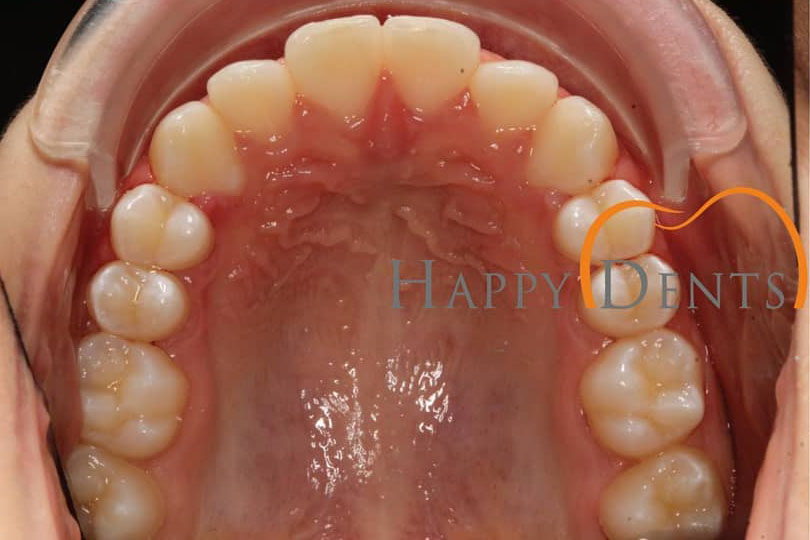UL1M_healthy: (579, 331, 699, 459)
UL2M_healthy: (597, 450, 721, 539)
ULCI_healthy: (384, 18, 478, 125)
ULC_healthy: (522, 96, 605, 188)
ULLI_healthy: (475, 59, 556, 137)
UR1BC_healthy: (111, 182, 215, 269)
UR1M_healthy: (91, 335, 188, 460)
UR2BC_healthy: (87, 258, 193, 346)
UR2M_healthy: (83, 446, 166, 539)
URCI_healthy: (286, 16, 382, 122)
URC_healthy: (147, 97, 248, 203)
URLI_healthy: (205, 59, 296, 145)
